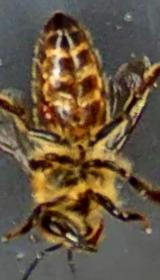varroa_mite: (30, 92, 66, 130)
